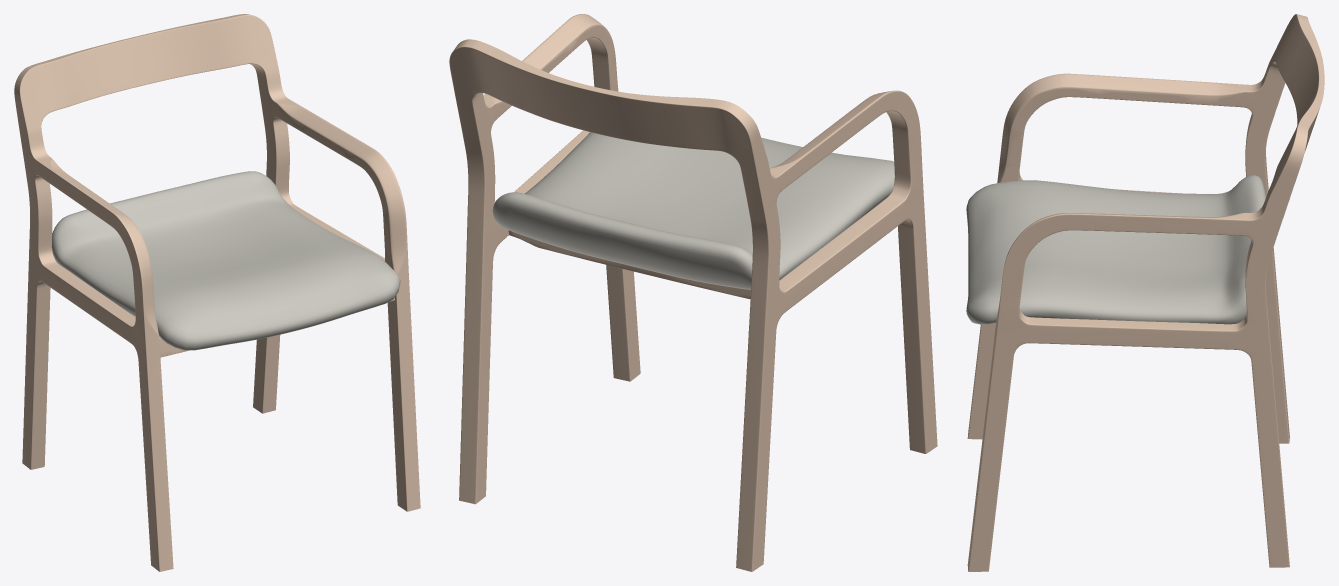
File: cadeira-quaddra-braco.glb
3 views of the same model, side by side, from view 1: azimuth 30°, elevation 25°; view 2: azimuth 150°, elevation 25°; view 3: azimuth 270°, elevation 25° (orthographic). The views are drawn at different scales.
Size of the model in its own units: 0.571 by 0.8048 by 0.6082.
